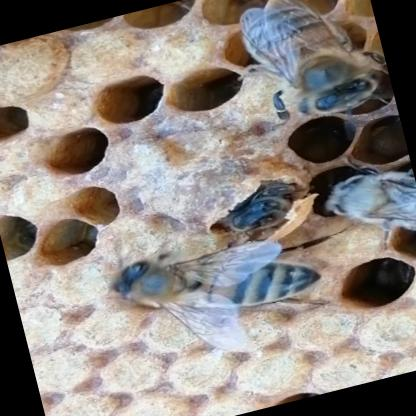bee: (60, 200, 356, 374), (189, 0, 396, 147), (133, 152, 342, 271), (287, 143, 416, 277), (360, 53, 404, 142)
